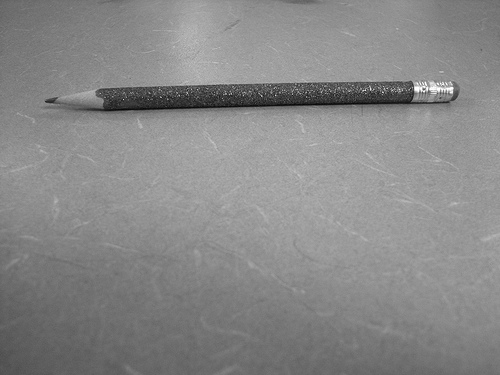pen_tip: (26, 65, 125, 137)
